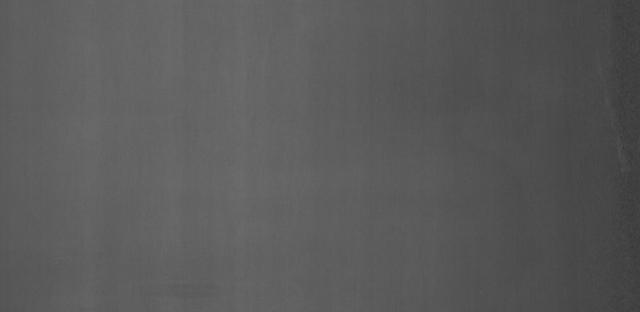oil_spot: (163, 272, 230, 300)
